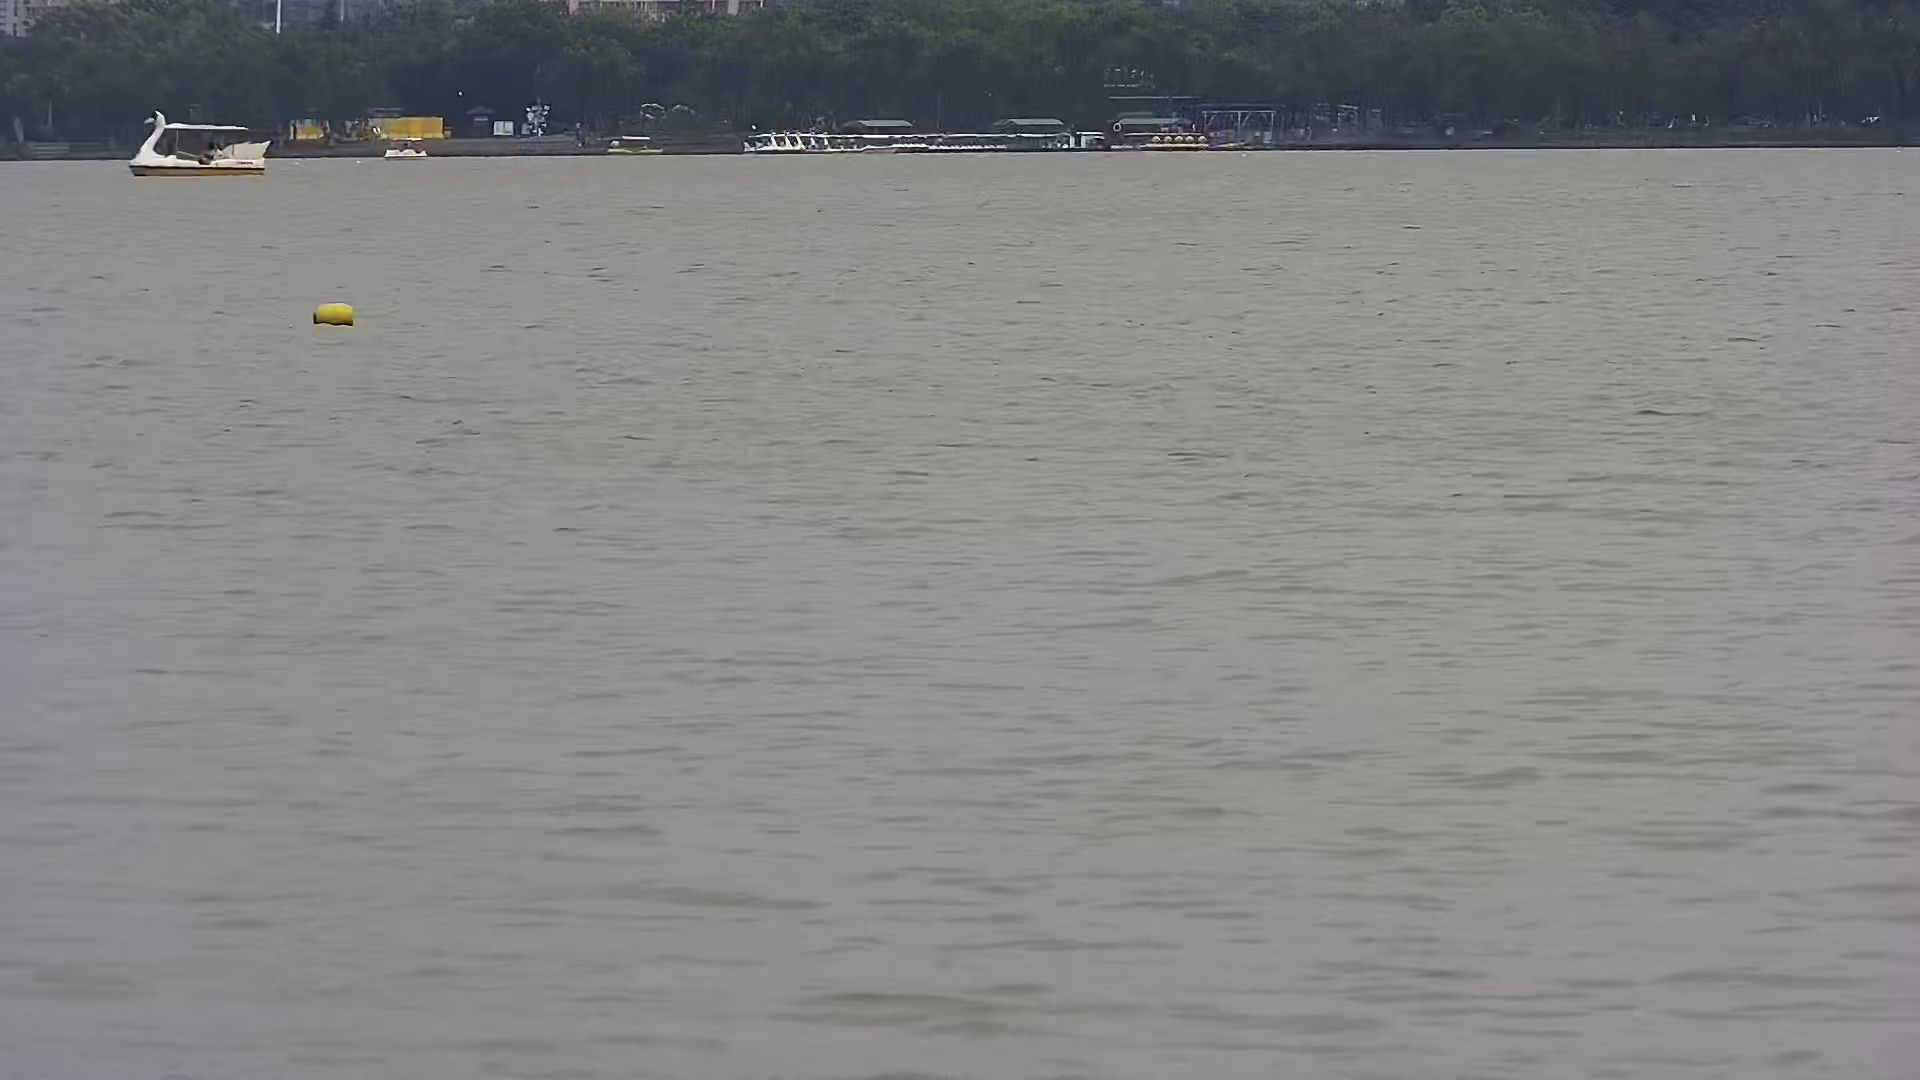boat: (125, 105, 262, 171)
harbor: (737, 108, 1242, 150)
rubbish: (306, 301, 357, 328)
